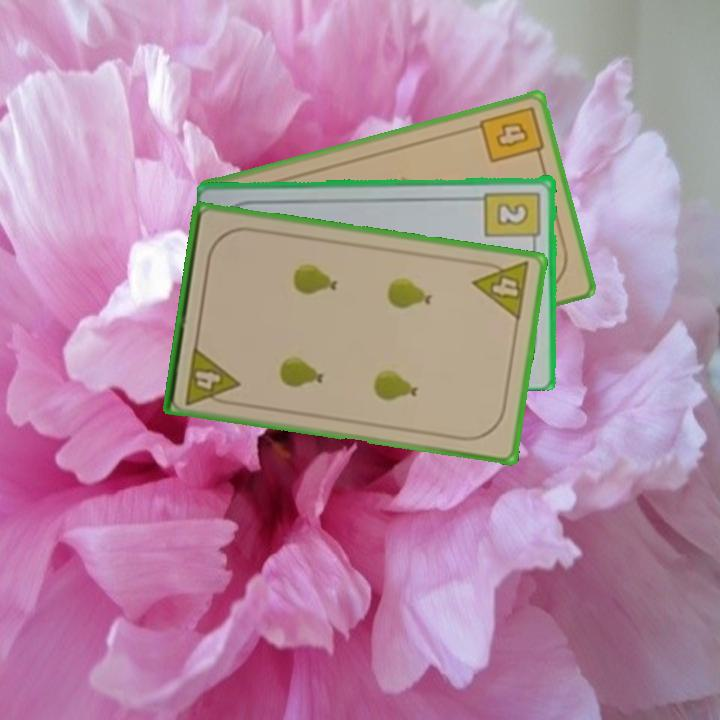2b: (482, 187, 544, 249)
4b: (476, 102, 546, 166)
4p: (469, 256, 533, 323), (181, 342, 242, 408)
